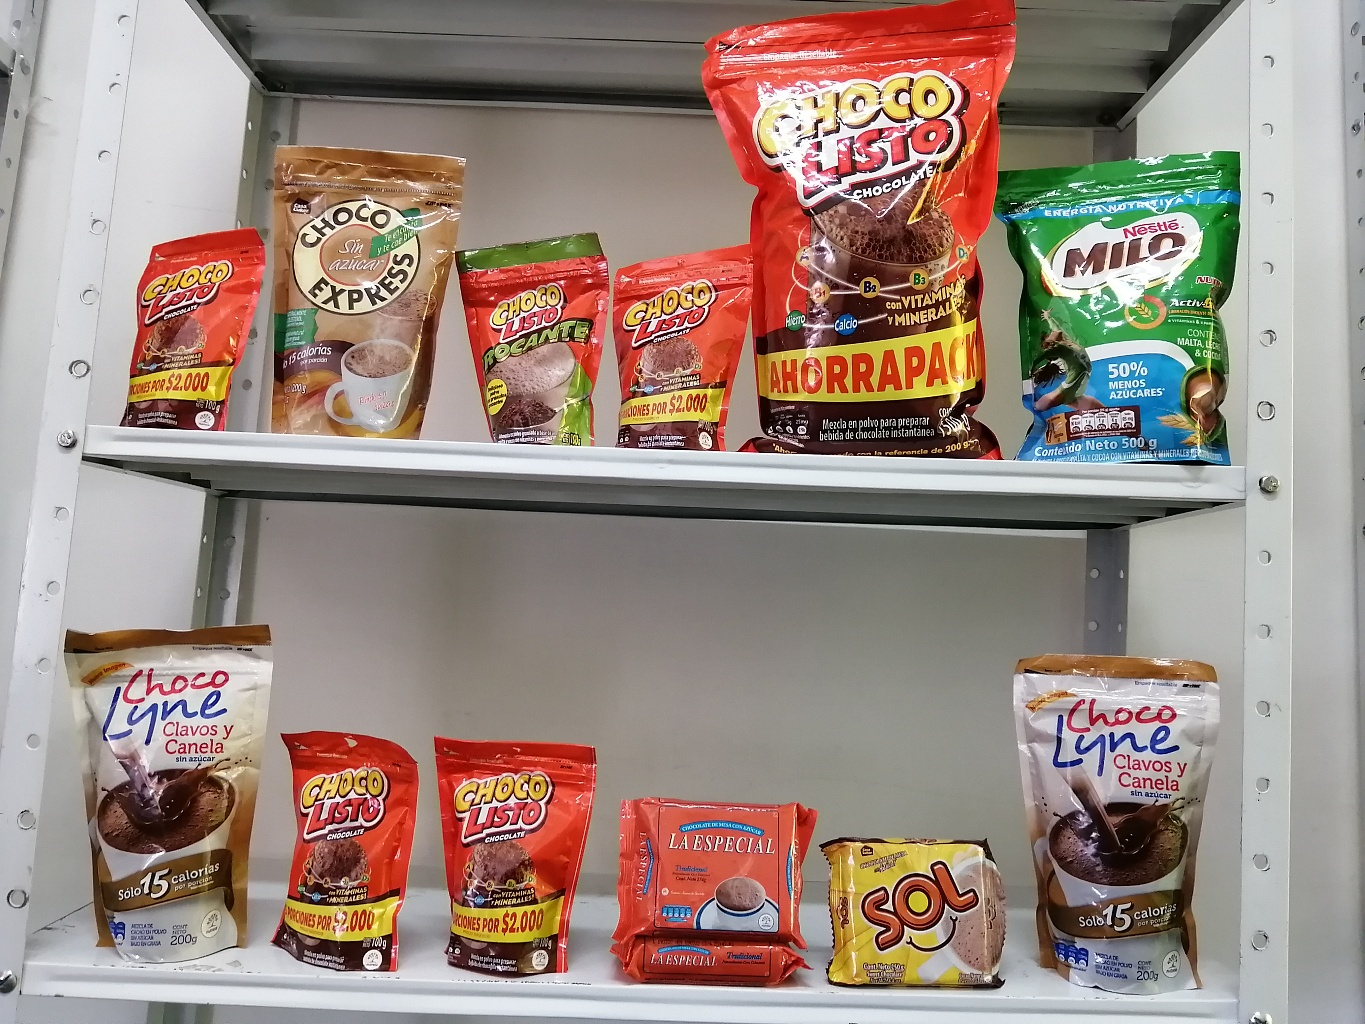COL0170102DYP10000: (450, 243, 613, 449)
COL0170103DYP1,500: (699, 11, 1032, 465)
COL0170103DYP10000: (132, 219, 267, 430)
COL0170205DYP50000: (999, 150, 1247, 469)
